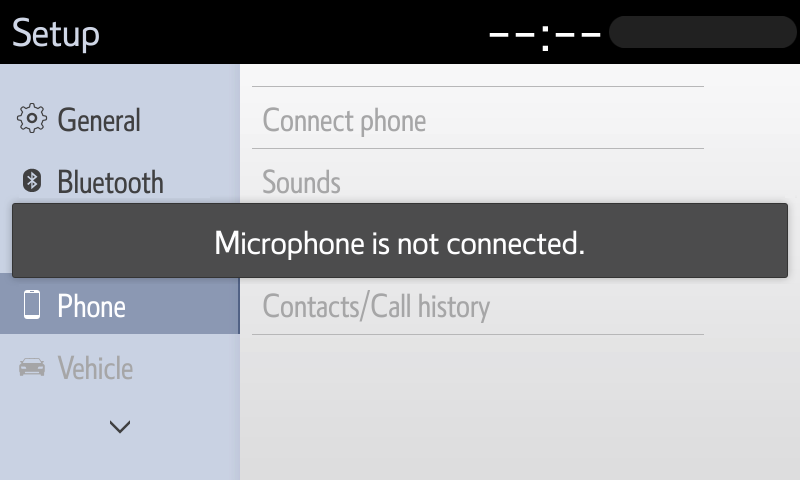touchPart: (13, 158, 161, 198), (17, 98, 147, 140), (100, 409, 143, 444)
untouchPart: (250, 82, 706, 157), (246, 273, 705, 340), (248, 144, 705, 205), (1, 270, 239, 339), (458, 7, 797, 54), (10, 345, 150, 391), (9, 11, 97, 53)
